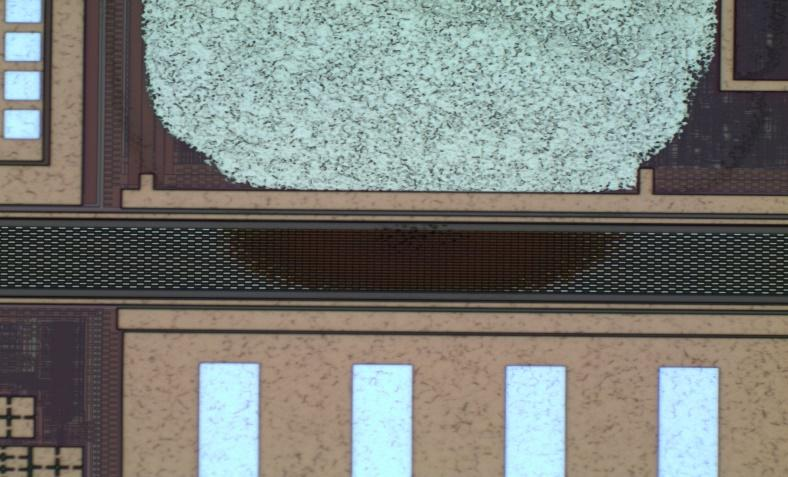BLOCK ETCH: (108, 1, 784, 295)
